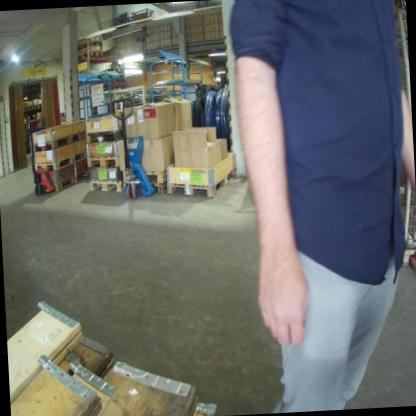pallet: (165, 167, 238, 202), (31, 128, 87, 153), (34, 149, 87, 174), (50, 168, 89, 193), (87, 176, 123, 196), (85, 129, 123, 145), (86, 154, 121, 171), (76, 40, 103, 51), (75, 50, 103, 59)
pallet_truck: (107, 89, 159, 200), (21, 115, 62, 197)
stillage: (393, 169, 416, 279), (108, 84, 159, 117), (397, 7, 410, 100)
